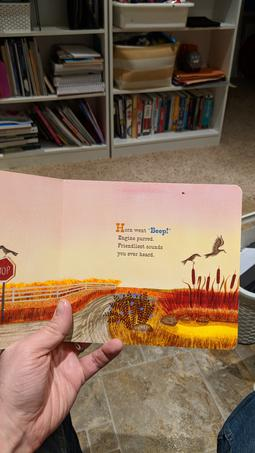text block: (108, 220, 176, 259)
